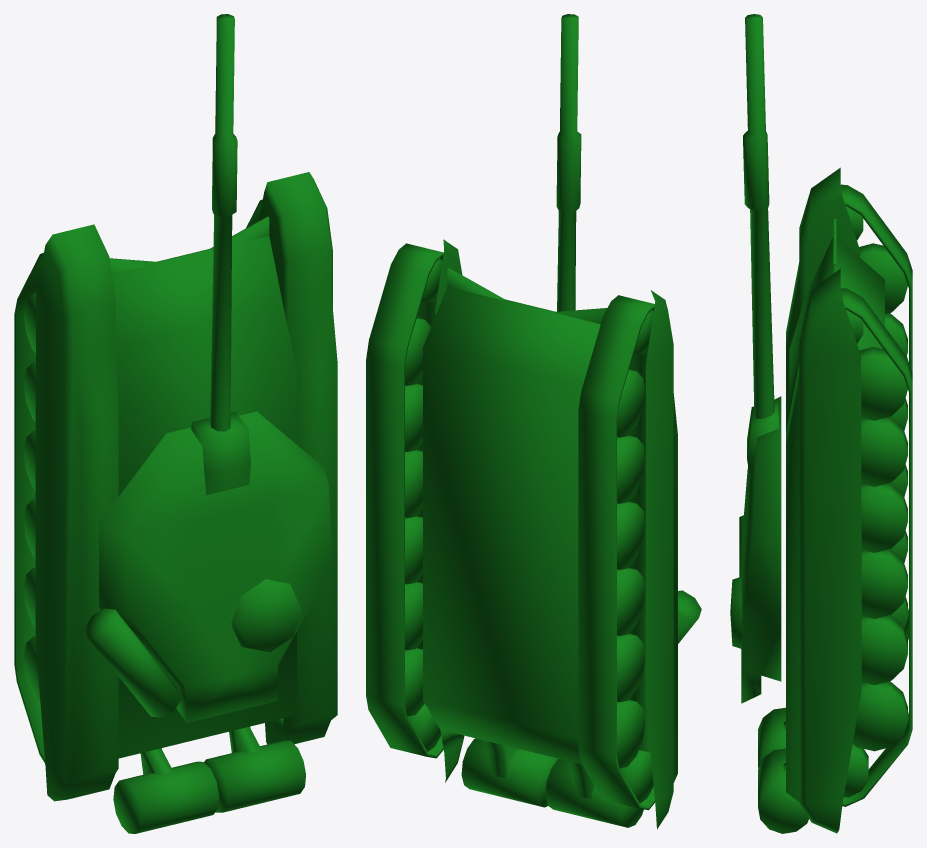
3 renders of one model, left to right at view 1: azimuth 30°, elevation 25°; view 2: azimuth 150°, elevation 25°; view 3: azimuth 270°, elevation 25°, orthographic. The views are drawn at different scales.
Visible parts, largest first — view 1: object_0; view 2: object_0; view 3: object_0.
Part boxes in pixels (<box>): object_0: <box>14,14,337,833</box>; object_0: <box>366,14,701,829</box>; object_0: <box>730,14,912,833</box>.
Bounding box in the file's own units: 1.78 × 5.08 × 1.08.
